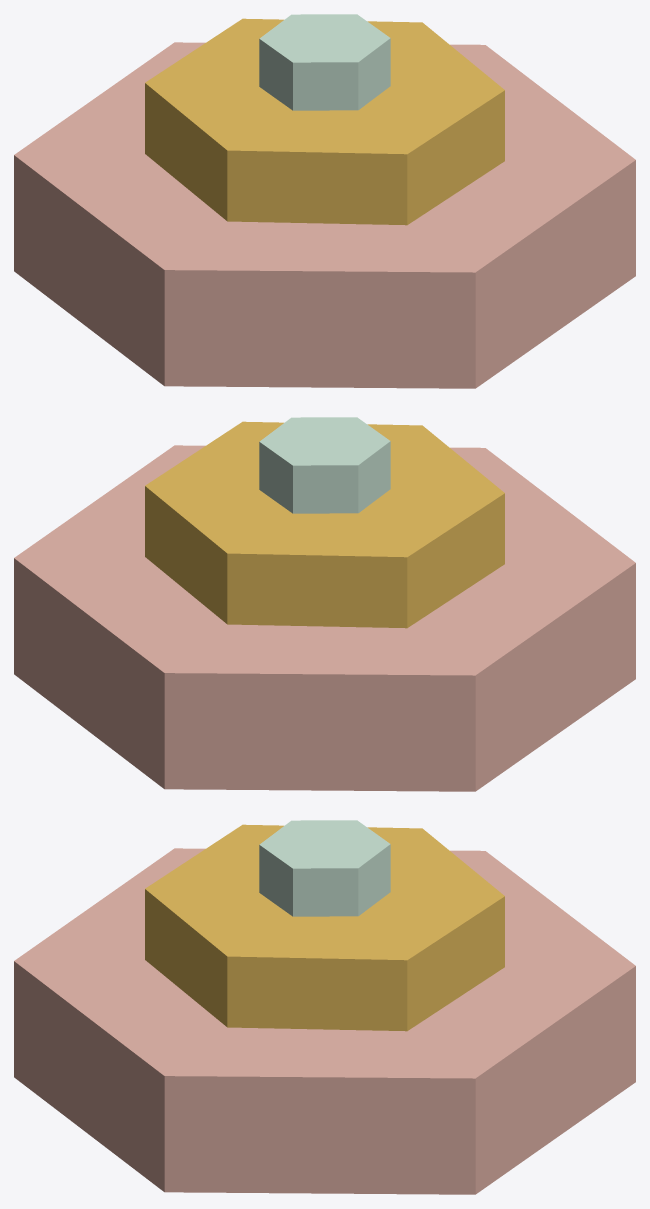
File: platform-1.fbx
3 views of the same model, one above another, from view 1: azimuth 30°, elevation 25°; view 2: azimuth 150°, elevation 25°; view 3: azimuth 270°, elevation 25° (orthographic).
Parts seen in each view (by area): view 1: Circle.010, Circle.009, Circle.008; view 2: Circle.010, Circle.009, Circle.008; view 3: Circle.010, Circle.009, Circle.008.
Boxes of the visible parts, left/top/right/bottom form: Circle.010: left=14, top=42, right=635, bottom=388; Circle.009: left=145, top=18, right=504, bottom=225; Circle.008: left=259, top=14, right=390, bottom=110; Circle.010: left=14, top=445, right=635, bottom=791; Circle.009: left=145, top=421, right=504, bottom=628; Circle.008: left=259, top=417, right=390, bottom=513; Circle.010: left=14, top=848, right=635, bottom=1194; Circle.009: left=145, top=824, right=504, bottom=1031; Circle.008: left=259, top=820, right=390, bottom=916.
Size of the model in its own units: 431 by 378 by 180.
